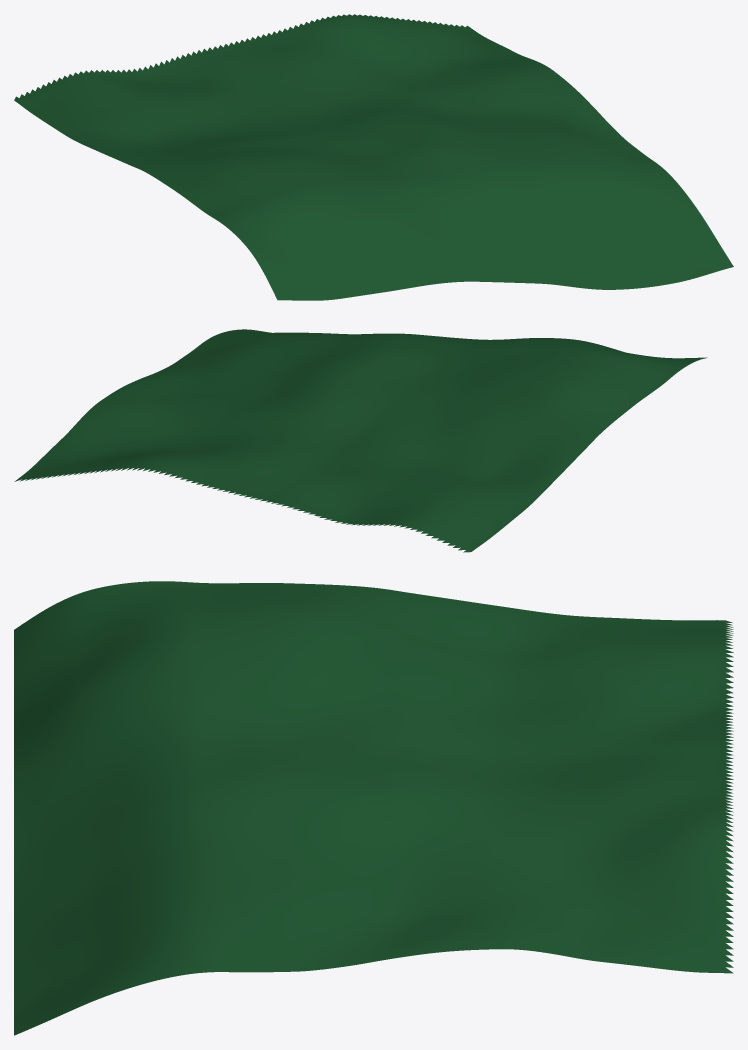
File: payo_land_xm3_ym1.glb
3 views of the same model, one above another, from view 1: azimuth 30°, elevation 25°; view 2: azimuth 150°, elevation 25°; view 3: azimuth 270°, elevation 25° (orthographic). The views are drawn at different scales.
Parts seen in each view (by area): view 1: payo_land_xm3_ym1; view 2: payo_land_xm3_ym1; view 3: payo_land_xm3_ym1.
Part boxes in pixels (x1,y1,x2,y2): payo_land_xm3_ym1: [14, 14, 733, 300]; payo_land_xm3_ym1: [14, 329, 707, 552]; payo_land_xm3_ym1: [14, 581, 733, 1035].
Bounding box in the file's own units: 255 × 65.9 × 258.
